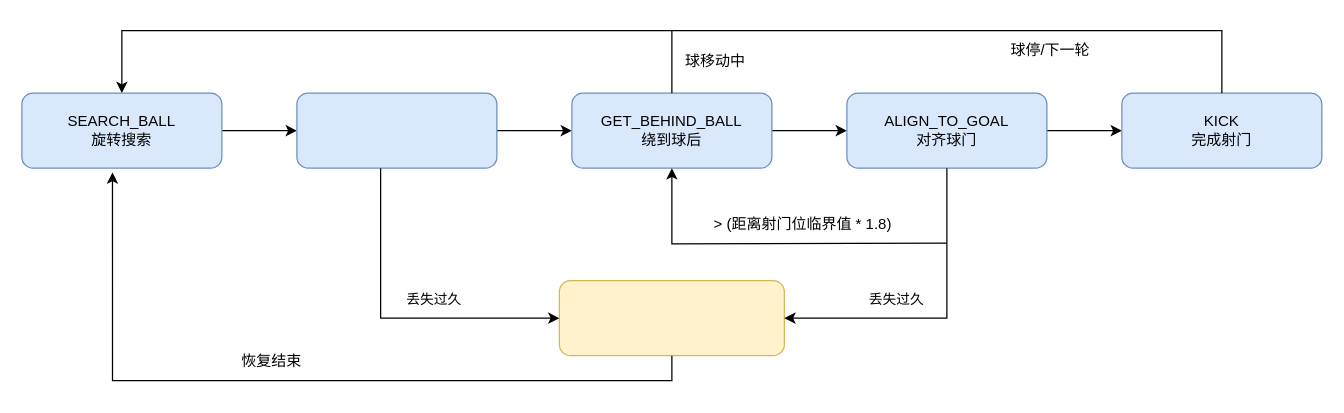
Some shapes in this 1344 by 413 pixel diagram are drawn without their labels. The centre of each missing label's shape, as x and y in pixels:
"APPROACH_BALL 接近足球" belongs at point 396,130.
"LOST_RECOVER 目标丢失后恢复" belongs at point 671,317.
